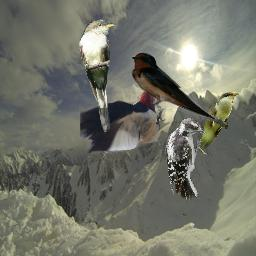Cuckoo: (79, 19, 116, 133), (198, 92, 239, 152)
Swallow: (129, 51, 217, 121)
Woodpecker: (80, 84, 170, 153), (165, 118, 207, 201)
